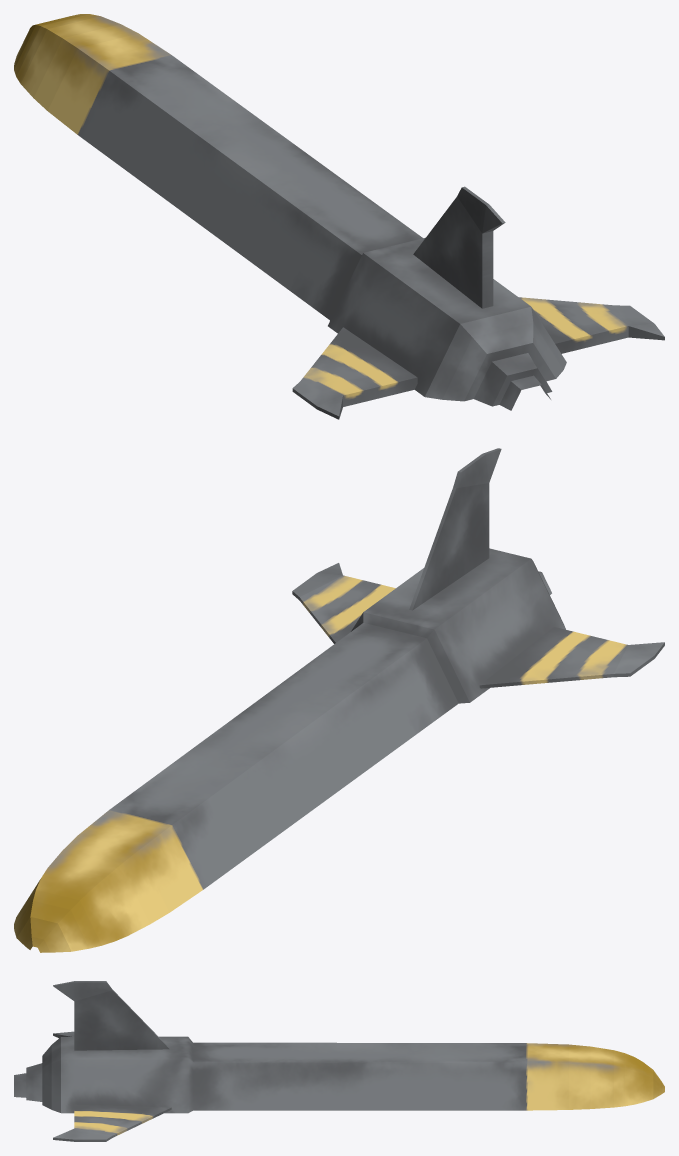
File: torpedo_1.fbx
3 views of the same model, one above another, from view 1: azimuth 30°, elevation 25°; view 2: azimuth 150°, elevation 25°; view 3: azimuth 270°, elevation 25° (orthographic). The views are drawn at different scales.
Parts seen in each view (by area): view 1: Circle; view 2: Circle; view 3: Circle.
Part boxes in pixels (box(x1,y1,x2,y2)): Circle: box(14, 14, 664, 419); Circle: box(14, 448, 664, 952); Circle: box(14, 981, 664, 1141).
Bounding box in the file's own units: 532 × 251 × 1354.
Materials: 1 (1 with a texture image).
